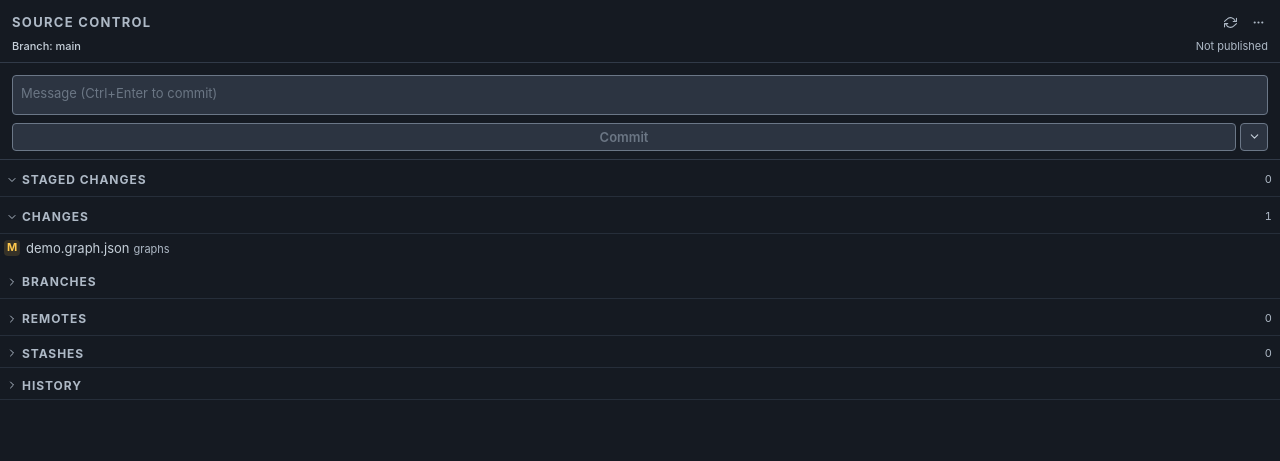
it: Source Control: refusals › keeps the panel and reports a status that stopped answering
Expected: the text "demo.graph.json" is shown, x1=26 y1=240 x2=130 y2=256
Click the button named "Refresh": coordinates (1230, 22) x1=1220 y1=12 x2=1240 y2=32
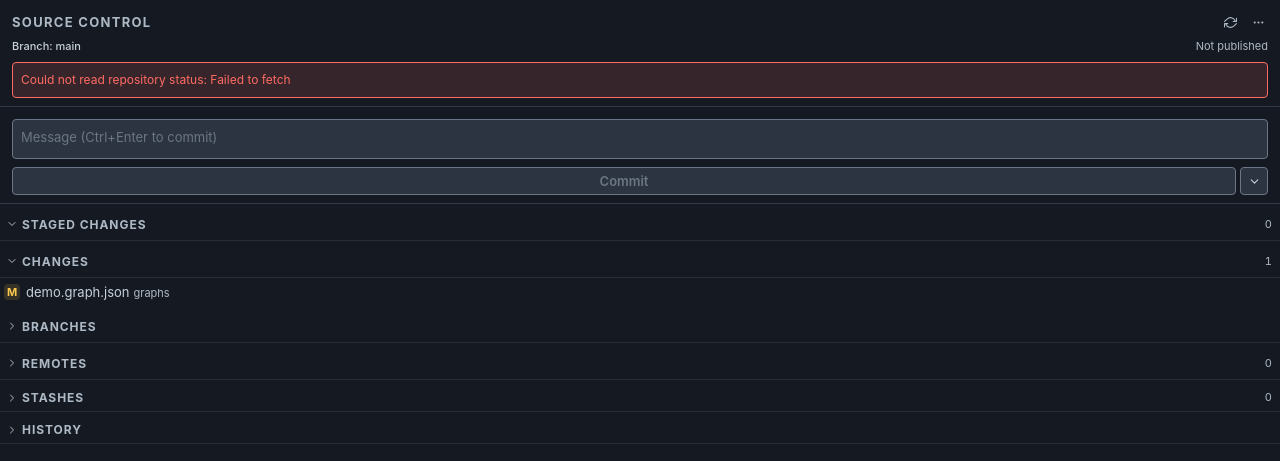
Expected: the text "demo.graph.json" is shown, x1=26 y1=284 x2=130 y2=300
Expected: the message reads "Could not read repository status: Failed to fetch", x1=21 y1=72 x2=291 y2=87
